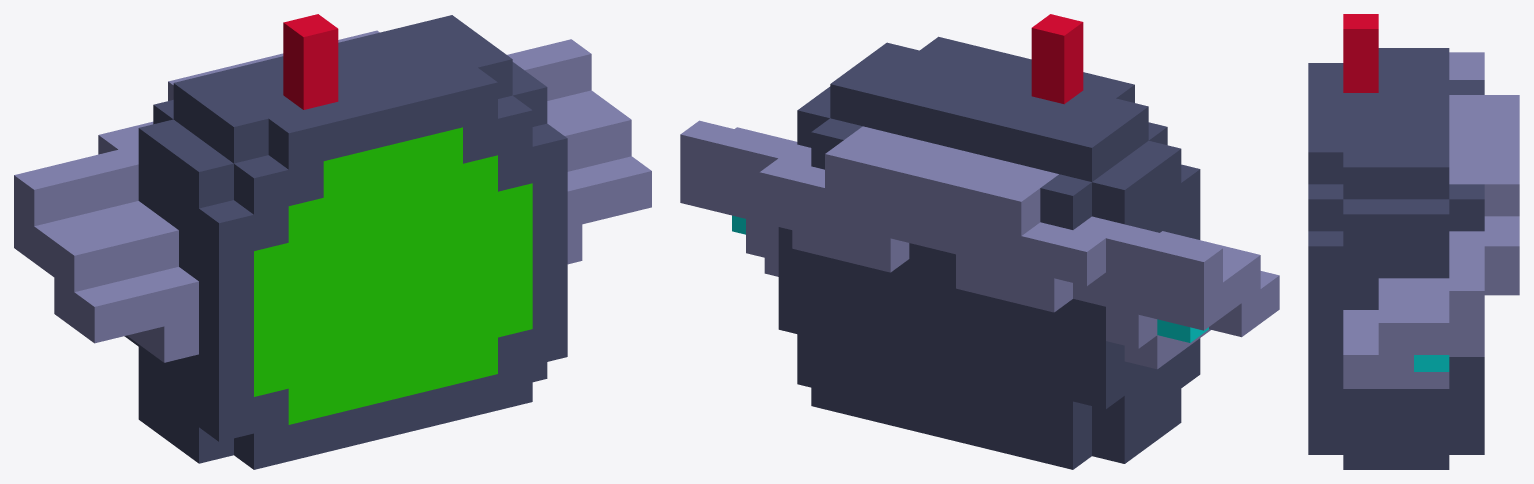
The model's file is Bot.fbx.
3 views of the same model, side by side, from view 1: azimuth 30°, elevation 25°; view 2: azimuth 150°, elevation 25°; view 3: azimuth 270°, elevation 25° (orthographic). The views are drawn at different scales.
Parts seen in each view (by area): view 1: Bot; view 2: Bot; view 3: Bot.
Part boxes in pixels (x1,y1,x2,y2): Bot: (14,14,651,469); Bot: (680,14,1279,469); Bot: (1308,14,1519,469).
Bounding box in the file's own units: 160 × 110 × 60.
